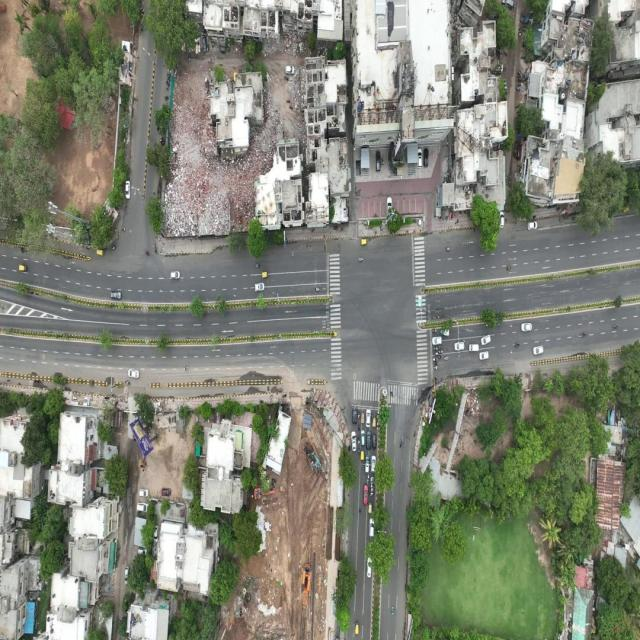3W: (17, 262, 28, 274), (371, 413, 377, 429), (354, 621, 360, 635), (360, 236, 367, 246), (97, 248, 104, 257), (360, 448, 365, 460), (368, 502, 373, 514), (262, 272, 269, 279), (361, 411, 365, 423)
Cars: (125, 178, 132, 201), (127, 368, 140, 380), (111, 289, 124, 300), (366, 556, 372, 578), (478, 350, 489, 362), (366, 430, 372, 451), (351, 430, 357, 451), (532, 345, 544, 355), (364, 455, 370, 474), (363, 483, 368, 505), (453, 342, 465, 351), (468, 343, 480, 352), (520, 323, 532, 332), (369, 518, 374, 538), (352, 404, 357, 424), (481, 335, 491, 345), (254, 282, 264, 292), (170, 271, 180, 281), (431, 336, 442, 345), (366, 409, 371, 428), (499, 210, 504, 229), (371, 455, 376, 473), (527, 221, 537, 230), (372, 432, 377, 449), (361, 430, 366, 446), (370, 477, 374, 496)
M2W: (577, 331, 587, 340), (512, 341, 521, 348), (505, 264, 512, 271), (390, 606, 395, 615), (145, 249, 150, 258), (612, 323, 619, 329), (443, 355, 449, 362), (432, 365, 439, 371), (358, 256, 364, 263), (255, 263, 261, 269), (120, 226, 126, 232), (110, 245, 116, 251), (183, 366, 189, 372), (432, 356, 437, 363), (400, 437, 403, 448), (438, 350, 444, 355), (437, 354, 443, 359), (358, 410, 361, 420), (359, 506, 362, 516), (315, 287, 320, 293), (391, 390, 394, 399), (358, 423, 361, 432), (357, 435, 360, 444), (367, 475, 370, 484), (153, 245, 156, 254), (431, 329, 437, 333), (433, 347, 438, 351), (358, 445, 360, 455), (438, 346, 443, 349)
